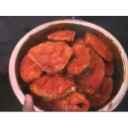seerfish: (30, 43, 71, 72), (78, 54, 105, 93), (32, 76, 77, 99), (46, 90, 89, 112), (86, 32, 115, 63), (70, 41, 91, 77), (44, 32, 79, 42)
